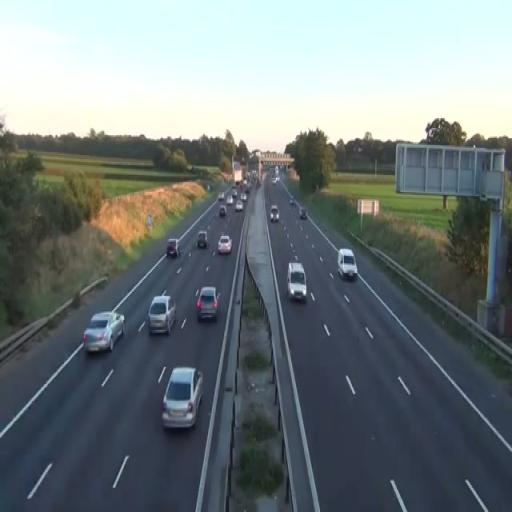Car: (162, 365, 204, 431), (82, 309, 125, 355), (147, 294, 177, 336), (195, 286, 219, 323), (286, 262, 308, 302), (336, 248, 358, 280), (166, 238, 181, 258), (218, 236, 232, 256), (198, 229, 208, 249), (270, 206, 280, 222), (219, 204, 227, 218), (235, 200, 243, 212)
